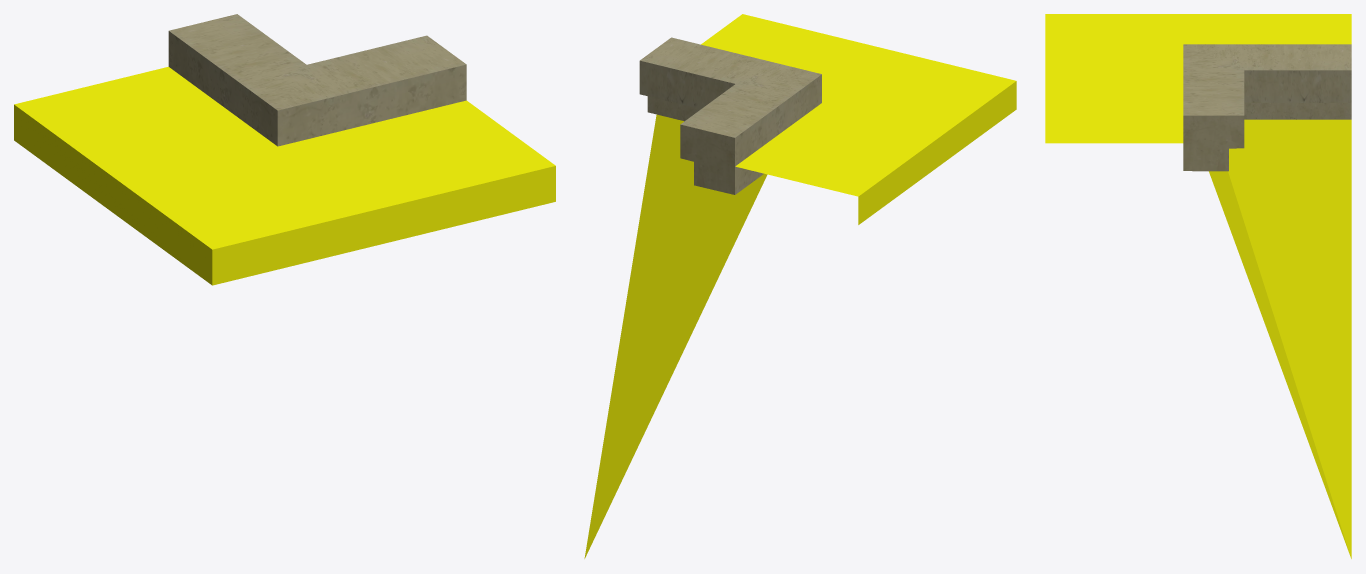
Rendered from roof-slatecornice-innercorner.glb.
3 renders of one model, left to right at view 1: azimuth 30°, elevation 25°; view 2: azimuth 150°, elevation 25°; view 3: azimuth 270°, elevation 25°, orthographic. The views are drawn at different scales.
Visible parts, largest first — view 1: Roof_SlateCornice_InnerCorner; view 2: Roof_SlateCornice_InnerCorner; view 3: Roof_SlateCornice_InnerCorner.
Boxes of the visible parts, bbox=[...] form: Roof_SlateCornice_InnerCorner: bbox=[14, 14, 555, 285]; Roof_SlateCornice_InnerCorner: bbox=[584, 14, 1016, 558]; Roof_SlateCornice_InnerCorner: bbox=[1045, 14, 1351, 558].
Bounding box in the file's own units: 2 × 3.2 × 2.
3 materials, 1 textured.
